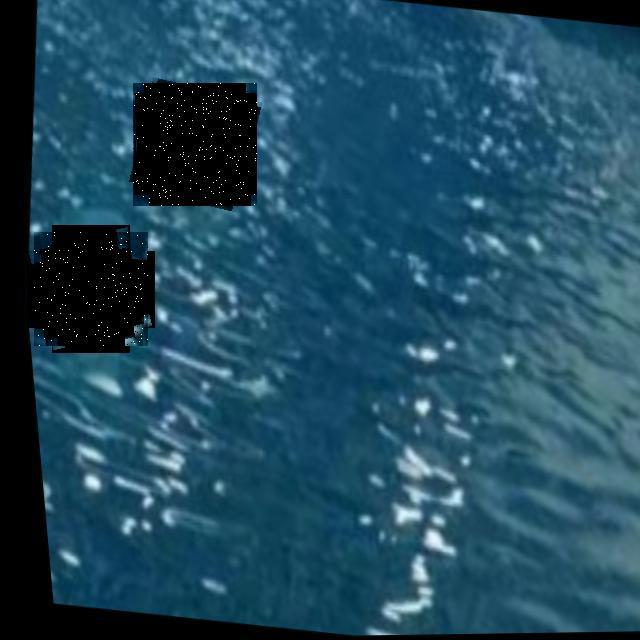swimming: (133, 83, 257, 206), (34, 232, 148, 346)
